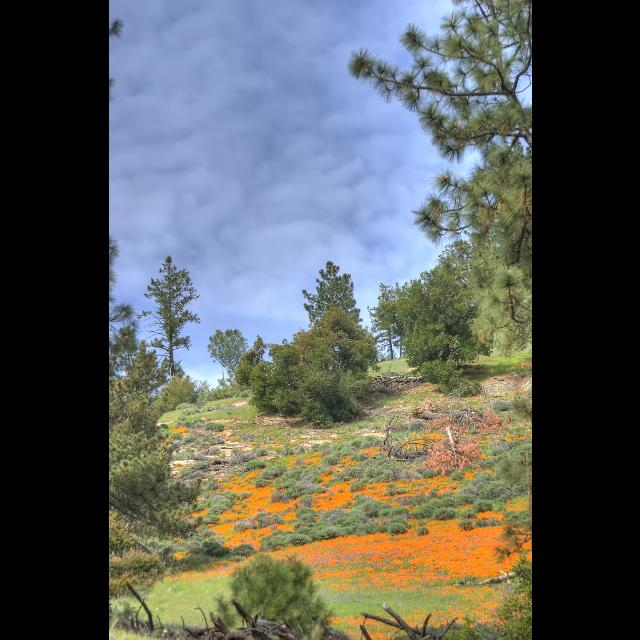Flower: (109, 423, 532, 639), (521, 362, 529, 370)
